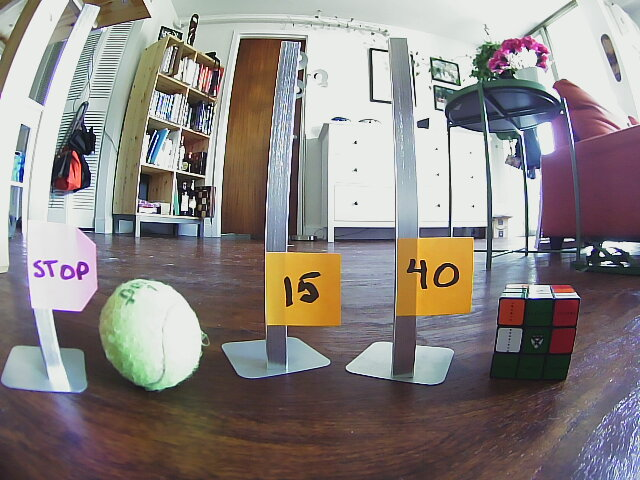15: (268, 255, 340, 327)
40: (398, 239, 472, 317)
ball: (99, 279, 204, 390)
cube: (491, 283, 580, 378)
stop: (29, 225, 91, 307)
